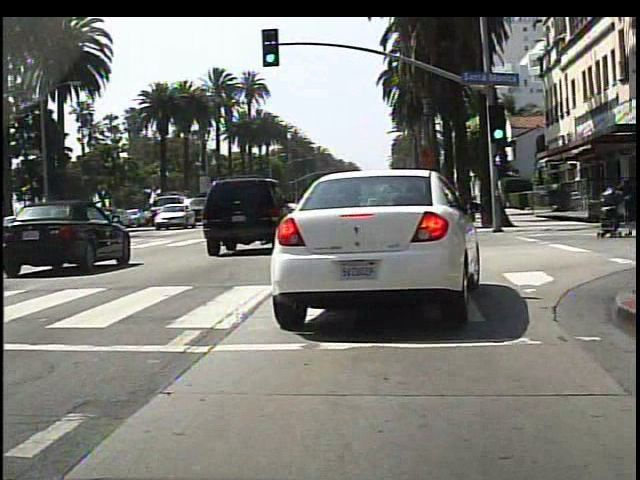person: (589, 163, 638, 242)
